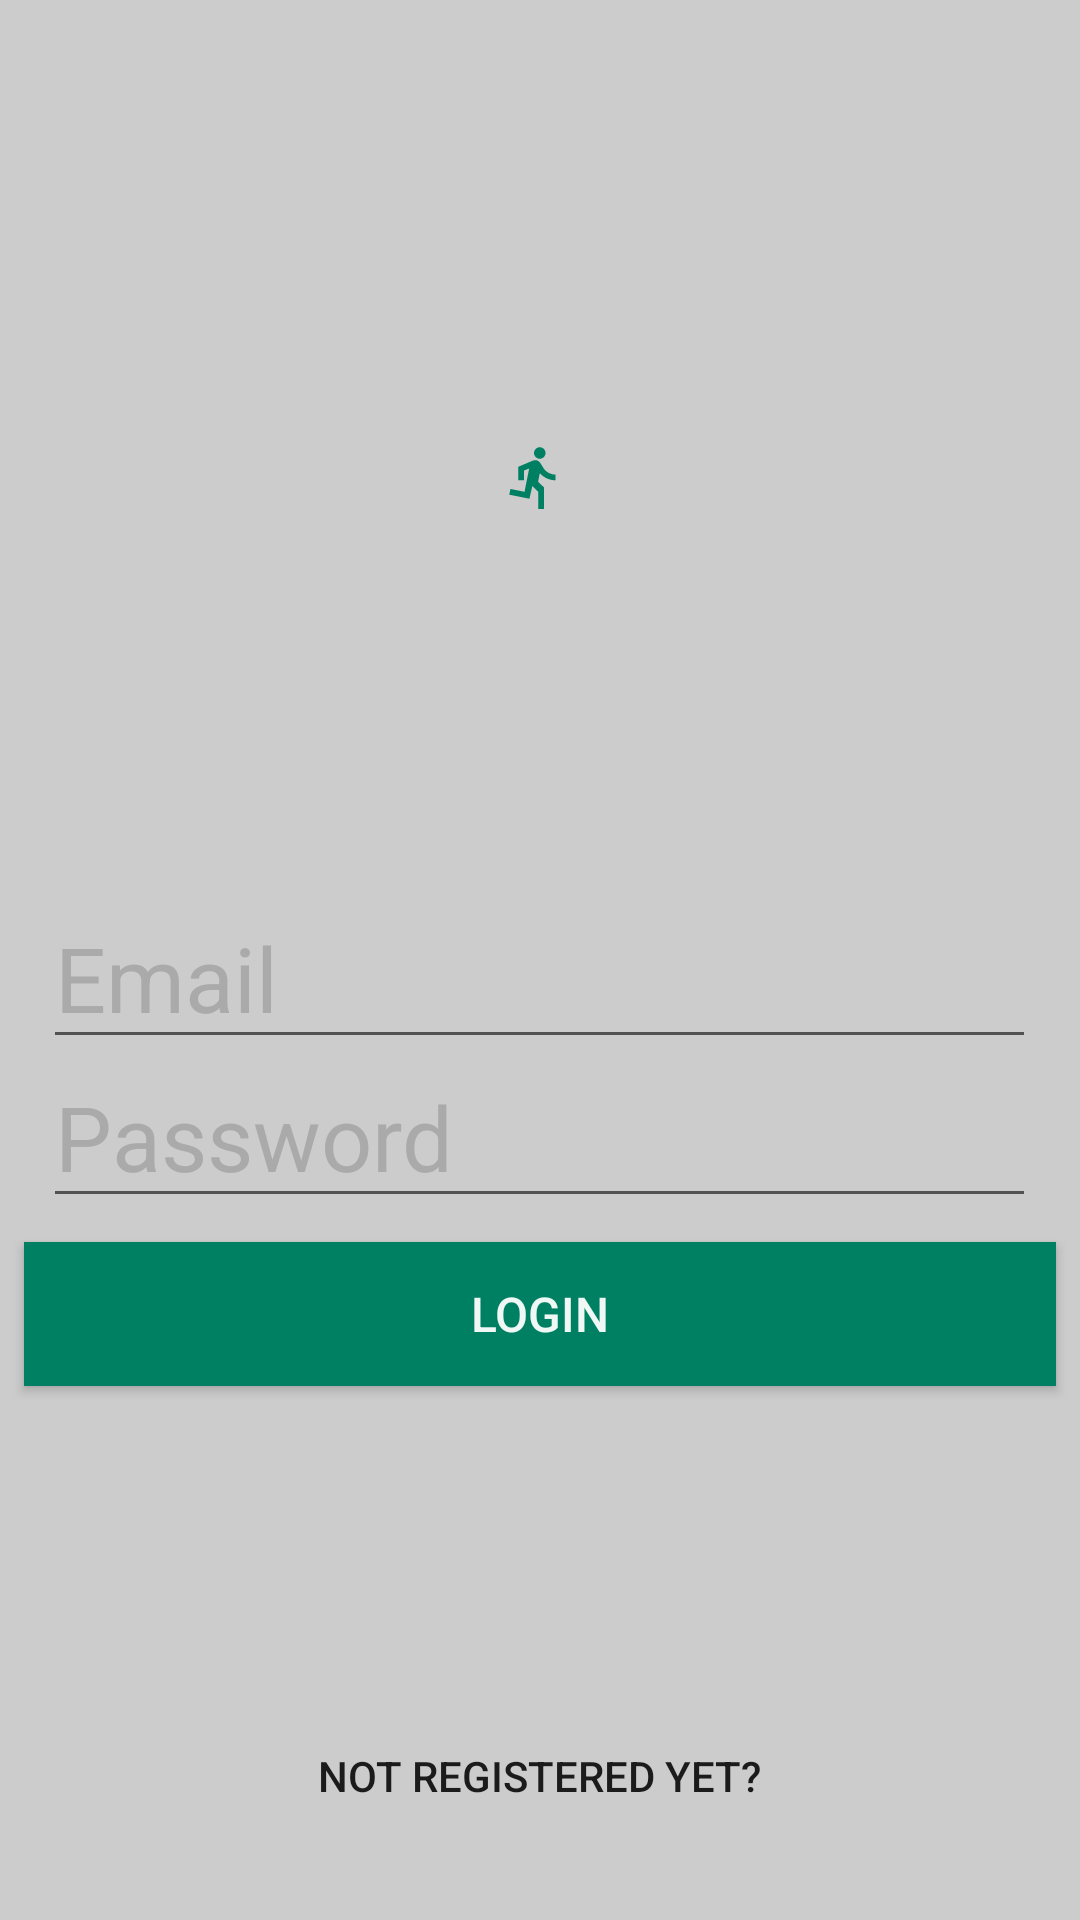

Point at icon controls on the screen. Image size 1080w x 1920h, points as (x=x, y=y).
directions run: (x=532, y=478)
